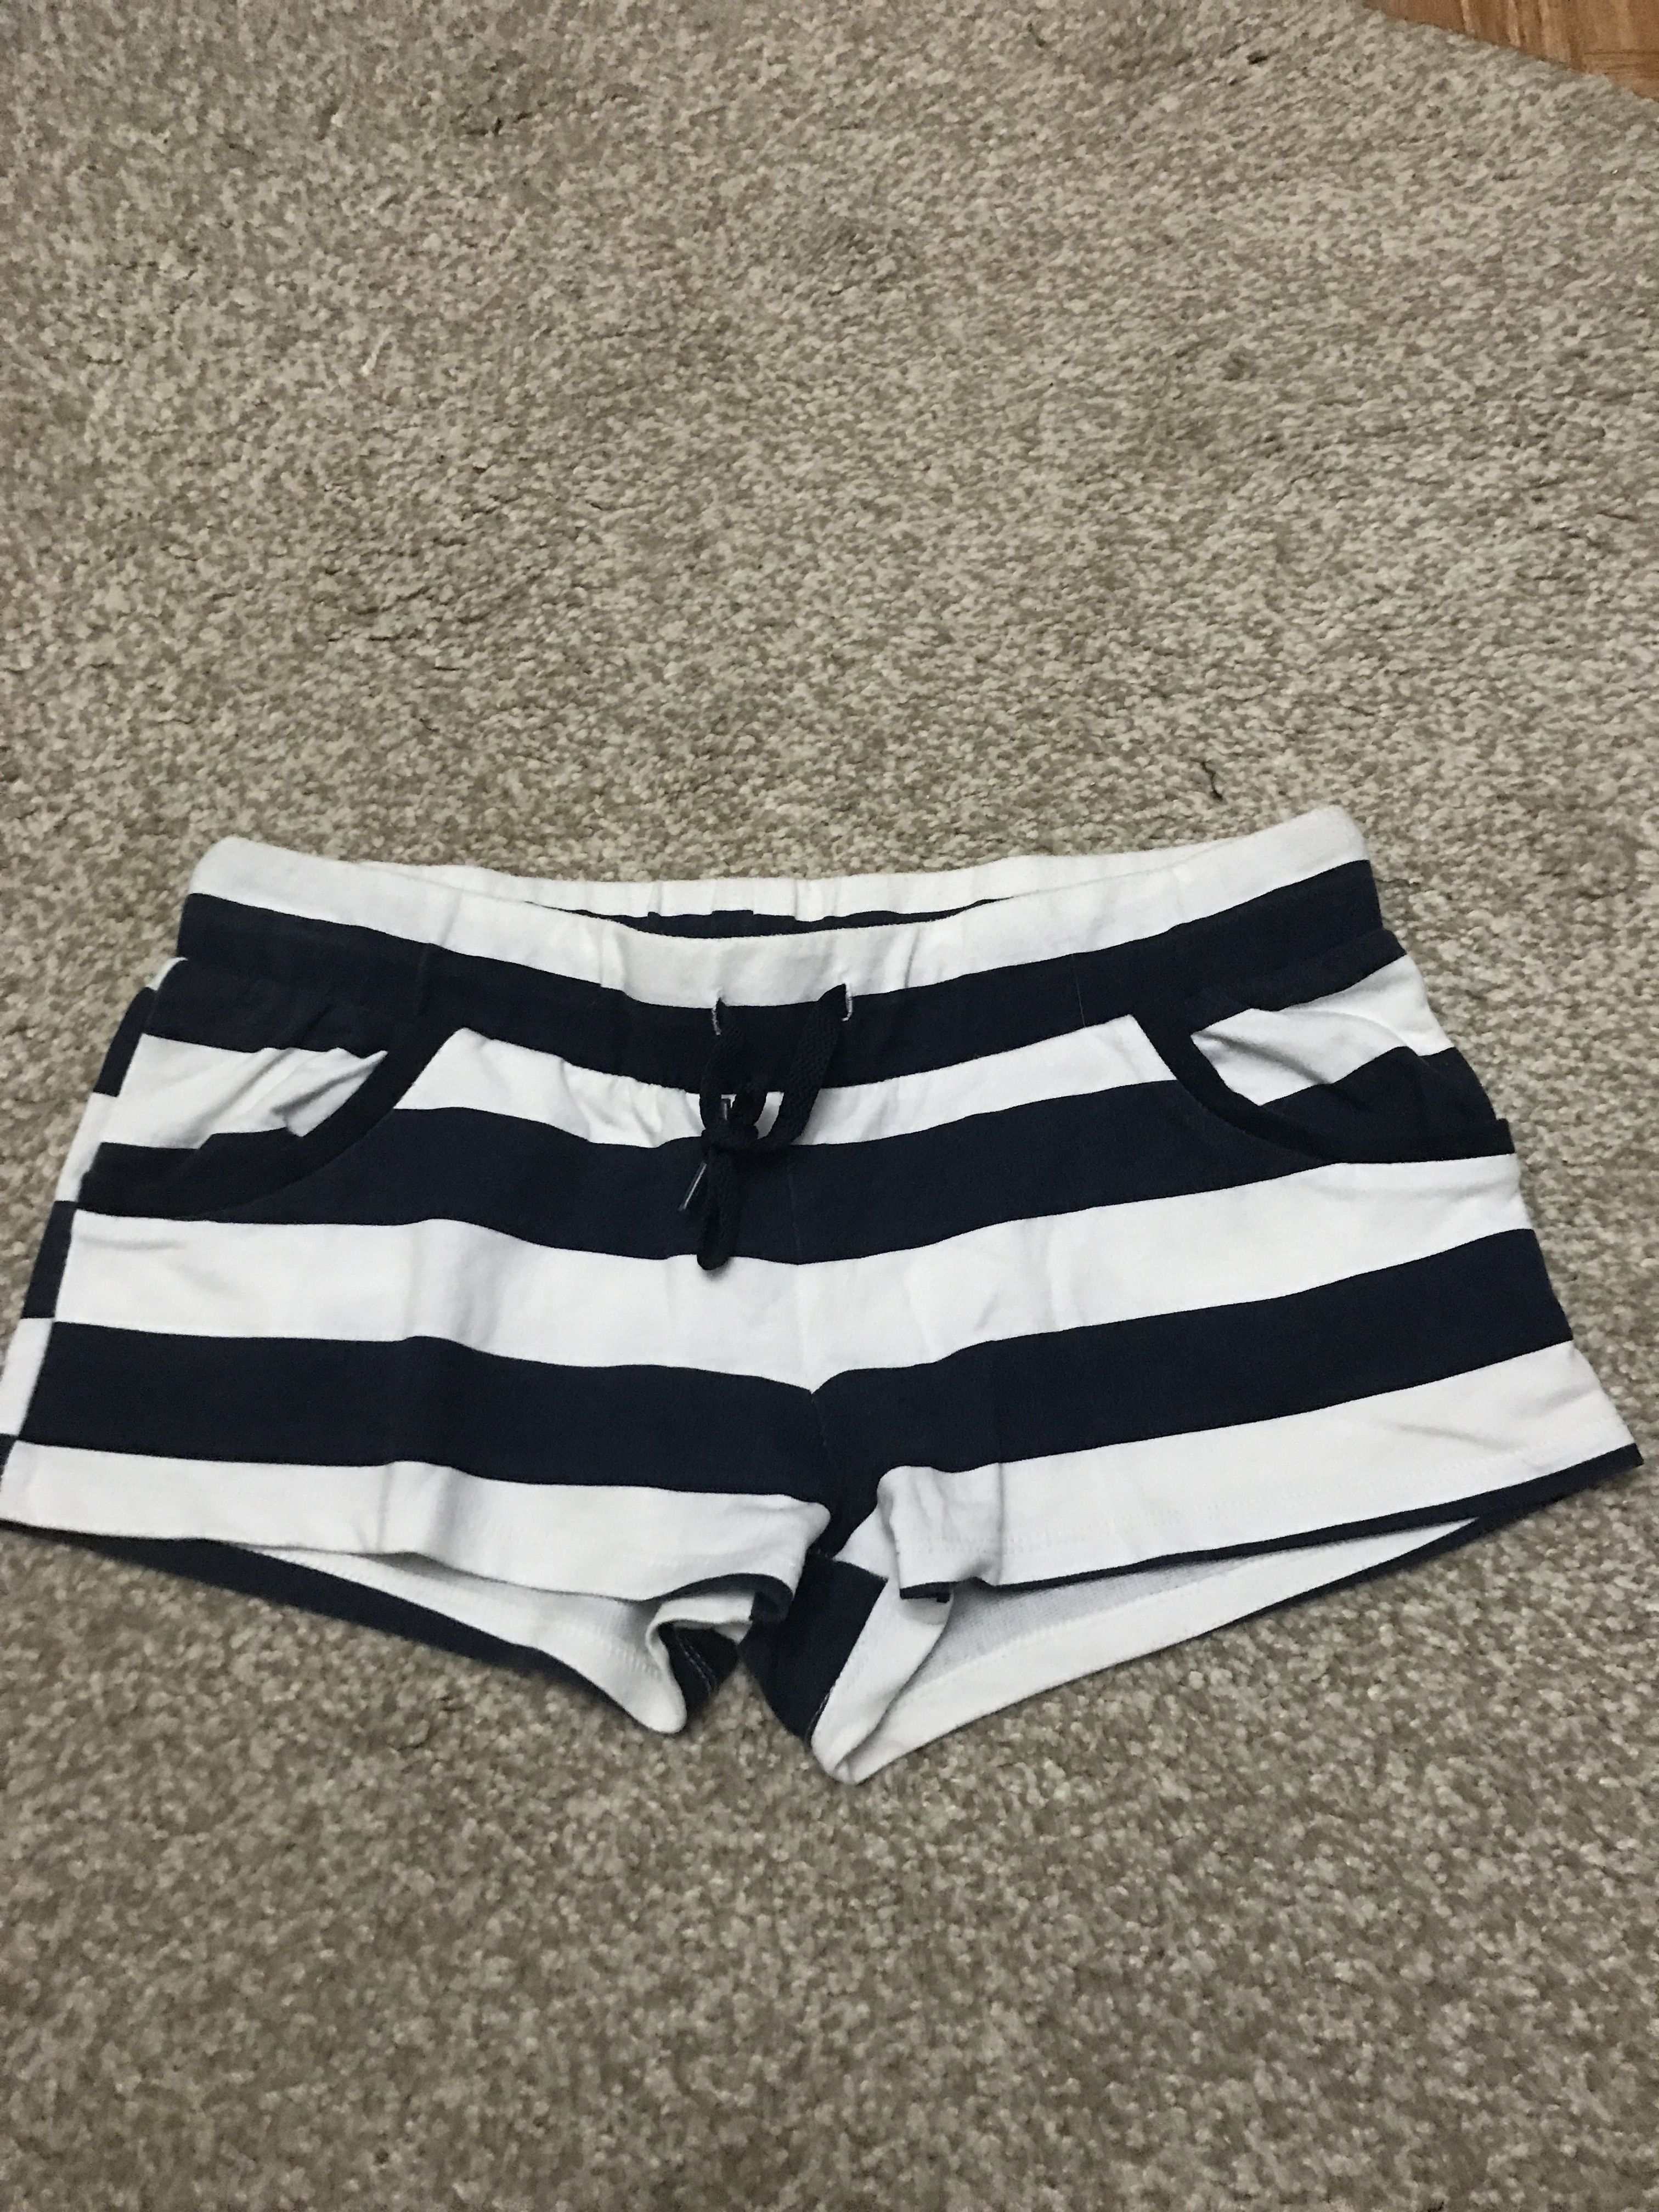clothes: (24, 789, 1610, 1799)
